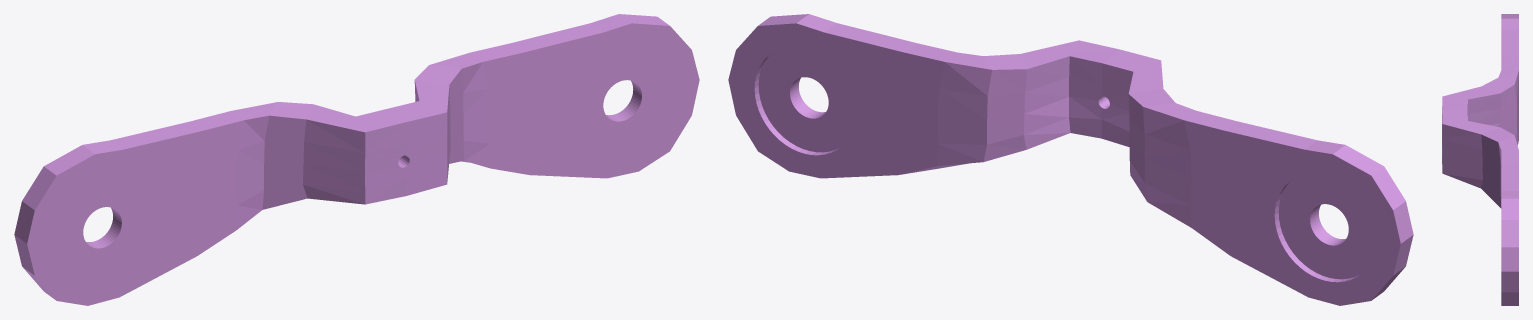
File: Piece 4.obj
3 renders of one model, left to right at view 1: azimuth 30°, elevation 25°; view 2: azimuth 150°, elevation 25°; view 3: azimuth 270°, elevation 25°, orthographic. The views are drawn at different scales.
Visible parts, largest first — view 1: Object.1; view 2: Object.1; view 3: Object.1.
Part boxes in pixels (x1,y1,x2,y2): Object.1: (14,14,699,305); Object.1: (728,14,1413,305); Object.1: (1442,14,1518,305).
Bounding box in the file's own units: 139 × 29.67 × 20.06.
